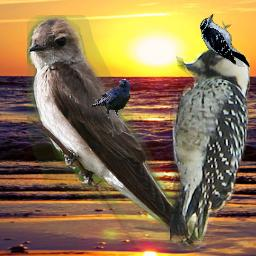Crow: (90, 79, 130, 119)
Swallow: (27, 15, 206, 250)
Woodpecker: (170, 45, 250, 243), (199, 14, 251, 67)
